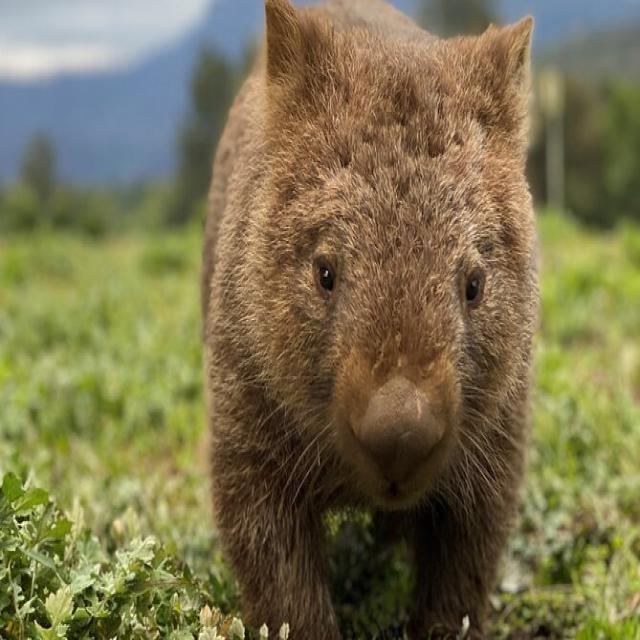Wombat: (200, 0, 546, 640)
